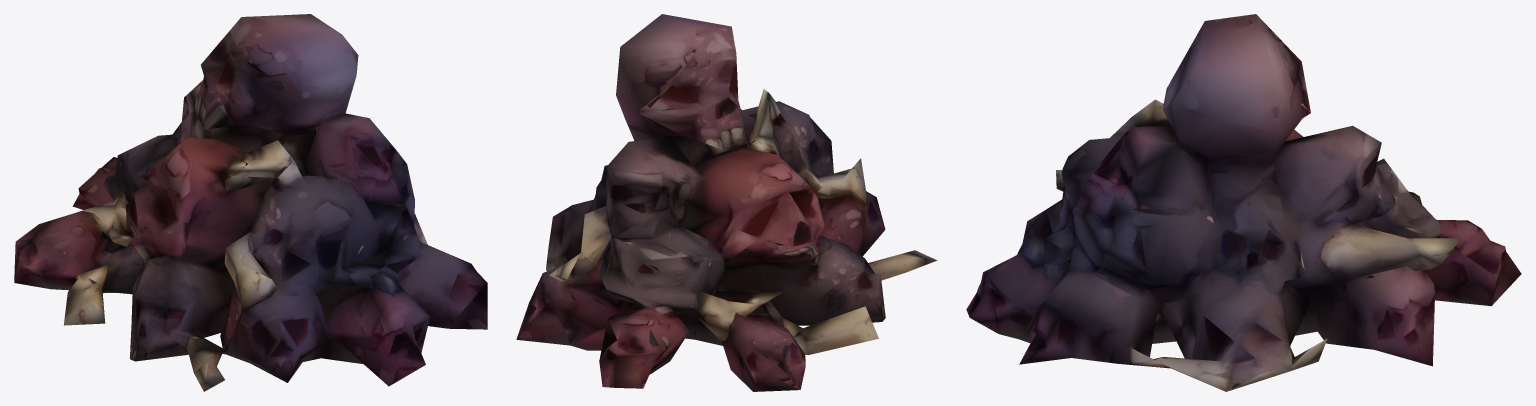
The model's file is skull-pile.glb.
3 views of the same model, side by side, from view 1: azimuth 30°, elevation 25°; view 2: azimuth 150°, elevation 25°; view 3: azimuth 270°, elevation 25° (orthographic). The views are drawn at different scales.
Visible parts, largest first — view 1: tripo_node_d235cf18-174c-443e-8603-345493fef878; view 2: tripo_node_d235cf18-174c-443e-8603-345493fef878; view 3: tripo_node_d235cf18-174c-443e-8603-345493fef878.
Part boxes in pixels (<box>): tripo_node_d235cf18-174c-443e-8603-345493fef878: <box>14,14,487,391</box>; tripo_node_d235cf18-174c-443e-8603-345493fef878: <box>516,14,937,391</box>; tripo_node_d235cf18-174c-443e-8603-345493fef878: <box>966,14,1521,391</box>.
Size of the model in its own units: 0.7678 by 0.5875 by 0.9837.
Materials: 1 (1 with a texture image).
